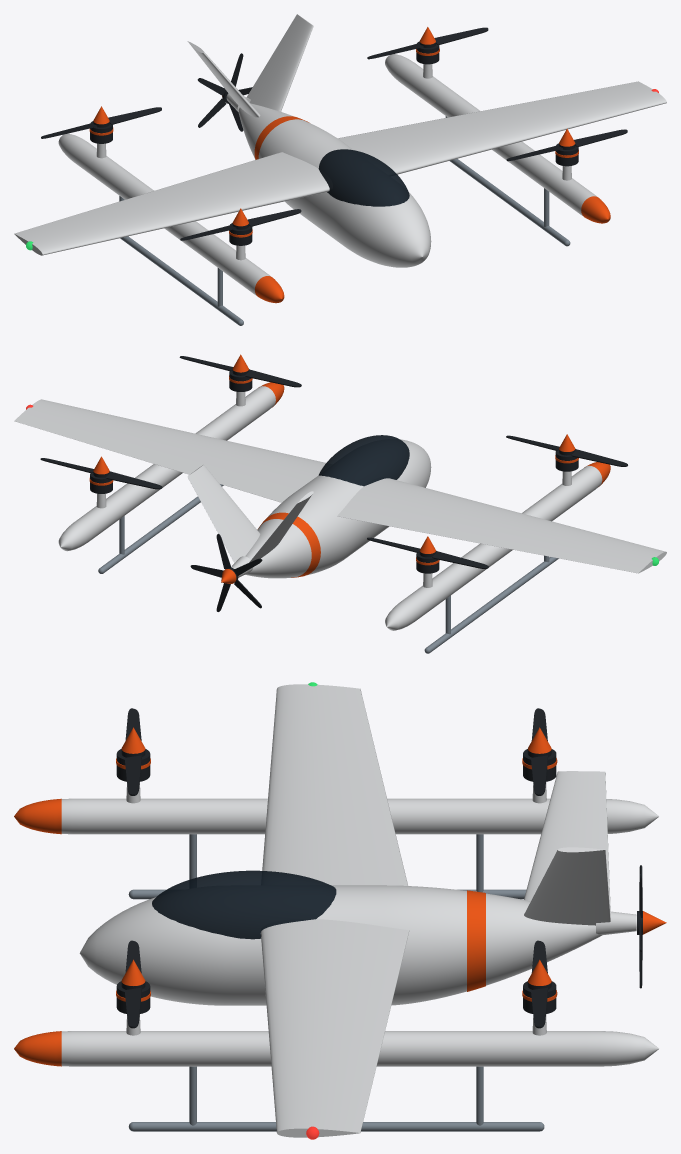
The model's file is petrel-evtol.glb.
3 renders of one model, top to bottom at view 1: azimuth 30°, elevation 25°; view 2: azimuth 150°, elevation 25°; view 3: azimuth 270°, elevation 25°, orthographic. The views are drawn at different scales.
Visible parts, largest first — view 1: Wing_R, Wing_L, Fuselage, Boom_R, Boom_L, Canopy, VTail_L, Skid_R, Skid_L, VTail_R, BoomTip_L, BoomTip_R; view 2: Wing_R, Wing_L, Fuselage, Boom_R, Boom_L, Canopy, VTail_L, Skid_R, Skid_L, VTail_R, Fuselage_Band; view 3: Fuselage, Wing_L, Wing_R, Boom_L, Boom_R, Canopy, VTail_R, VTail_L, Skid_L, Fuselage_Band, BoomTip_L, BoomTip_R (+2 smaller).
Boxes of the visible parts, x1,y1,x2,y2 form: Wing_R: [14, 152, 329, 255]; Wing_L: [338, 81, 666, 174]; Fuselage: [238, 103, 431, 267]; Boom_R: [58, 133, 270, 295]; Boom_L: [385, 54, 596, 216]; Canopy: [318, 149, 409, 206]; VTail_L: [246, 14, 313, 111]; Skid_R: [120, 236, 241, 324]; Skid_L: [450, 158, 567, 244]; VTail_R: [187, 41, 260, 117]; BoomTip_L: [581, 196, 610, 223]; BoomTip_R: [255, 276, 284, 303]; Wing_R: [337, 478, 666, 573]; Wing_L: [14, 399, 326, 502]; Fuselage: [245, 439, 431, 578]; Boom_R: [385, 465, 602, 630]; Boom_L: [58, 386, 275, 551]; Canopy: [319, 435, 409, 486]; VTail_L: [187, 464, 260, 562]; Skid_R: [426, 557, 558, 652]; Skid_L: [100, 484, 223, 572]; VTail_R: [249, 491, 313, 562]; Fuselage_Band: [257, 512, 320, 577]; Fuselage: [79, 885, 601, 1005]; Wing_L: [260, 919, 409, 1137]; Wing_R: [262, 684, 407, 885]; Boom_L: [61, 1031, 658, 1066]; Boom_R: [61, 798, 658, 834]; Canopy: [152, 870, 336, 939]; VTail_R: [524, 771, 610, 911]; VTail_L: [524, 847, 610, 925]; Skid_L: [133, 1122, 539, 1131]; Fuselage_Band: [467, 890, 485, 991]; BoomTip_L: [14, 1031, 61, 1066]; BoomTip_R: [14, 798, 61, 834].
Size of the model in its own units: 8.91 by 1.9 by 5.47.
